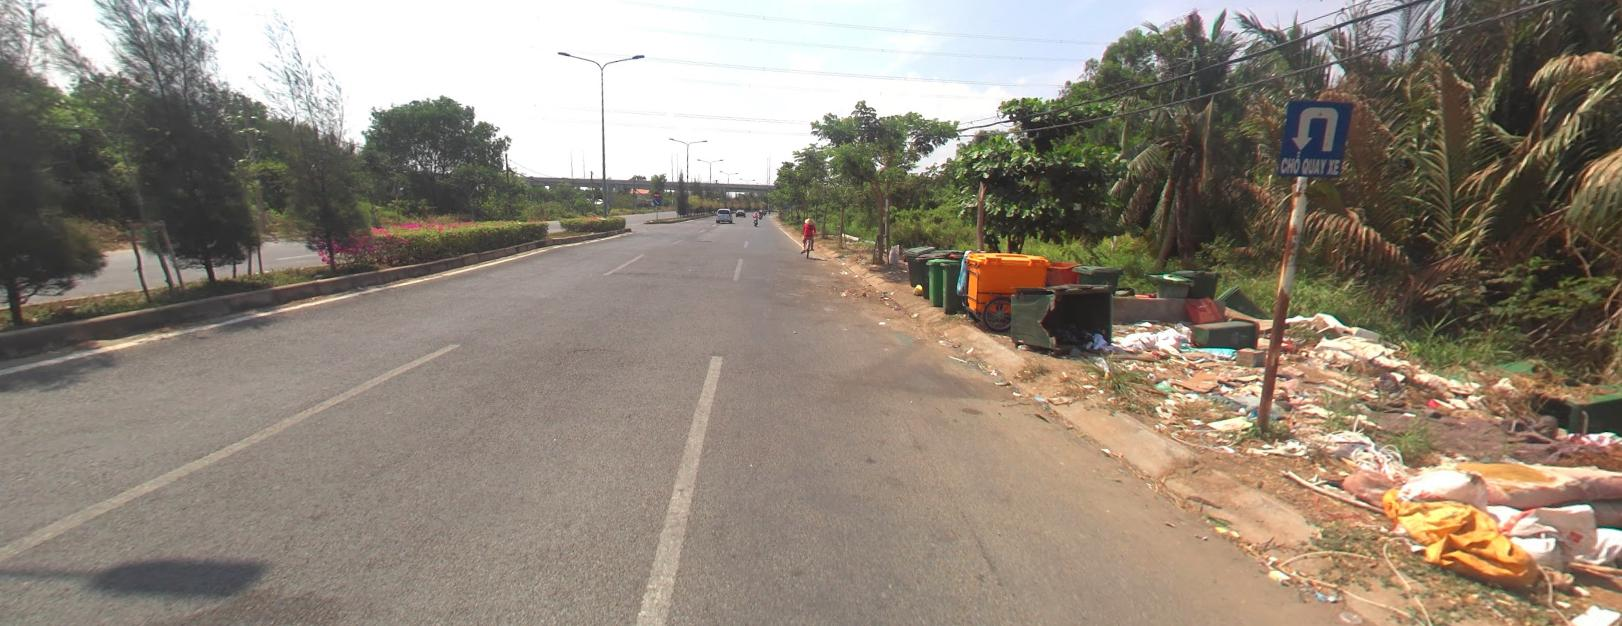Cam nguoc chieu: (653, 190, 660, 196)
Hieu lenh: (653, 197, 660, 203)
